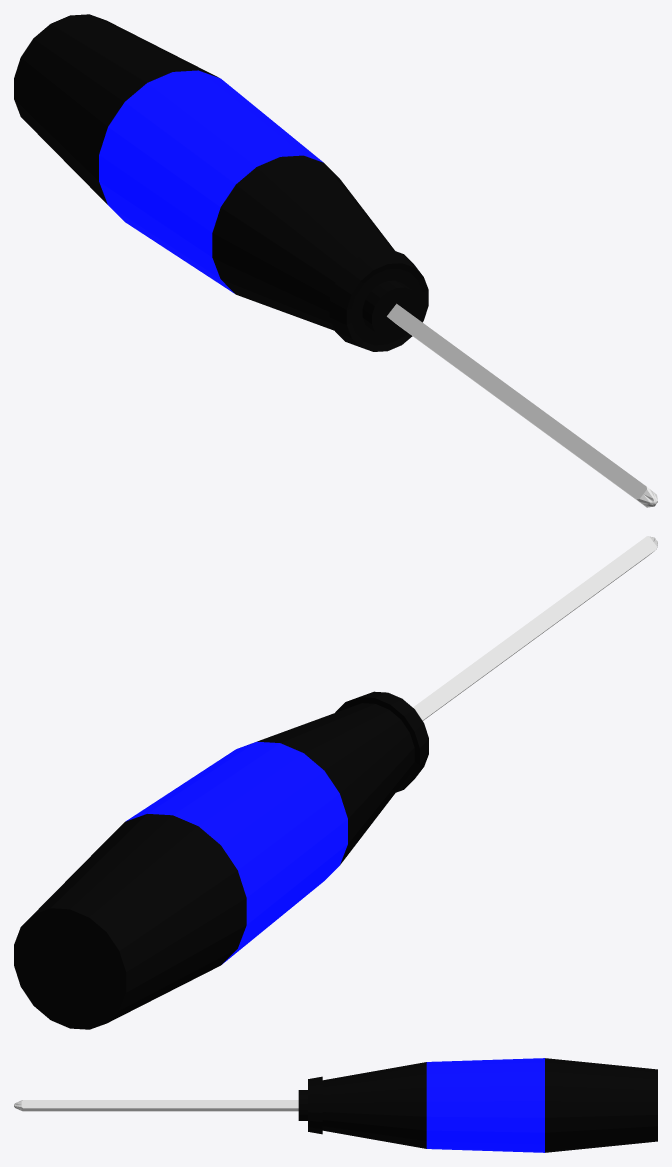
The model's file is ChavePhilips.fbx.
The picture shows the model from 3 angles, top to bottom: view 1: azimuth 30°, elevation 25°; view 2: azimuth 150°, elevation 25°; view 3: azimuth 270°, elevation 25°; orthographic projection. The views are drawn at different scales.
Visible parts, largest first — view 1: Cube; view 2: Cube; view 3: Cube.
Boxes of the visible parts, left/top/right/bottom form: Cube: left=14, top=14, right=657, bottom=507; Cube: left=14, top=536, right=657, bottom=1029; Cube: left=14, top=1058, right=657, bottom=1152.
Size of the model in its own units: 53.71 by 54.54 by 369.
